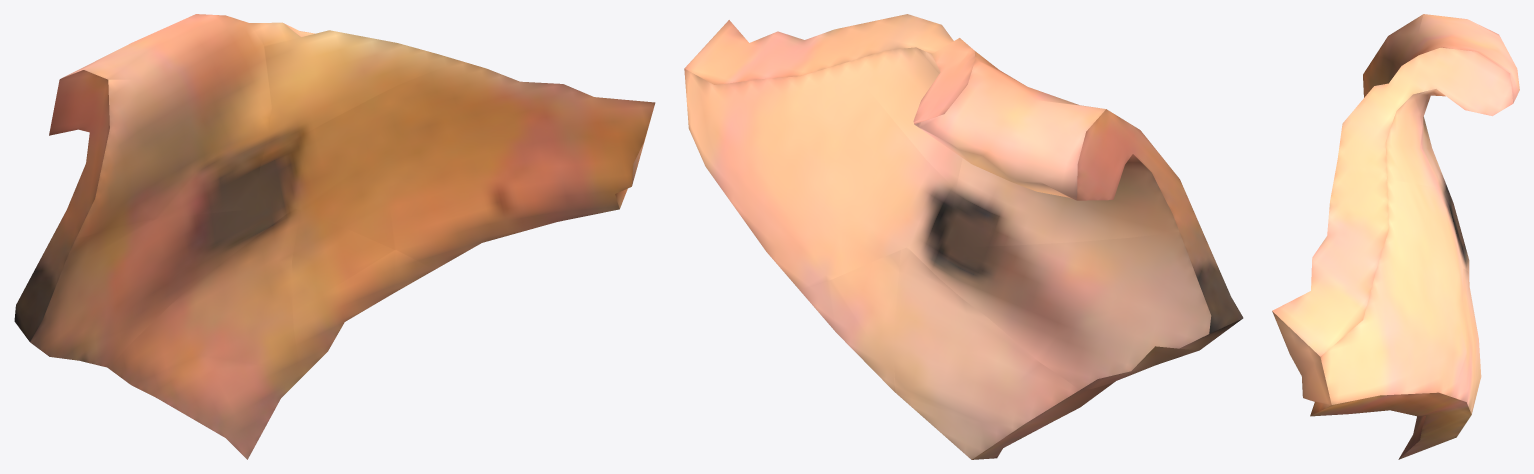
The model's file is Ceramic006.gltf.
The picture shows the model from 3 angles, left to right: view 1: azimuth 30°, elevation 25°; view 2: azimuth 150°, elevation 25°; view 3: azimuth 270°, elevation 25°; orthographic projection. The views are drawn at different scales.
Parts seen in each view (by area): view 1: Ceramic006_002, Ceramic006_001, Ceramic006_003, Ceramic006_004, Ceramic006, Ceramic006_005; view 2: Ceramic006_002, Ceramic006_001, Ceramic006_004, Ceramic006_003, Ceramic006, Ceramic006_005; view 3: Ceramic006_002, Ceramic006, Ceramic006_001, Ceramic006_005, Ceramic006_003, Ceramic006_004.
Boxes of the visible parts, x1=… form: Ceramic006_002: x1=257, y1=60, x2=655, y2=269; Ceramic006_001: x1=49, y1=14, x2=271, y2=238; Ceramic006_003: x1=109, y1=208, x2=301, y2=459; Ceramic006_004: x1=14, y1=193, x2=294, y2=368; Ceramic006: x1=258, y1=22, x2=459, y2=161; Ceramic006_005: x1=292, y1=211, x2=434, y2=376; Ceramic006_002: x1=684, y1=20, x2=955, y2=290; Ceramic006_001: x1=920, y1=47, x2=1196, y2=247; Ceramic006_004: x1=907, y1=219, x2=1243, y2=390; Ceramic006_003: x1=893, y1=247, x2=1112, y2=459; Ceramic006: x1=850, y1=14, x2=970, y2=189; Ceramic006_005: x1=800, y1=250, x2=900, y2=392; Ceramic006_002: x1=1272, y1=178, x2=1466, y2=416; Ceramic006: x1=1334, y1=58, x2=1514, y2=189; Ceramic006_001: x1=1363, y1=14, x2=1519, y2=238; Ceramic006_005: x1=1405, y1=277, x2=1476, y2=435; Ceramic006_003: x1=1398, y1=268, x2=1481, y2=459; Ceramic006_004: x1=1456, y1=224, x2=1469, y2=273.
Bounding box in the file's own units: 0.144 × 0.0983 × 0.0535.
1 material, 1 textured.
